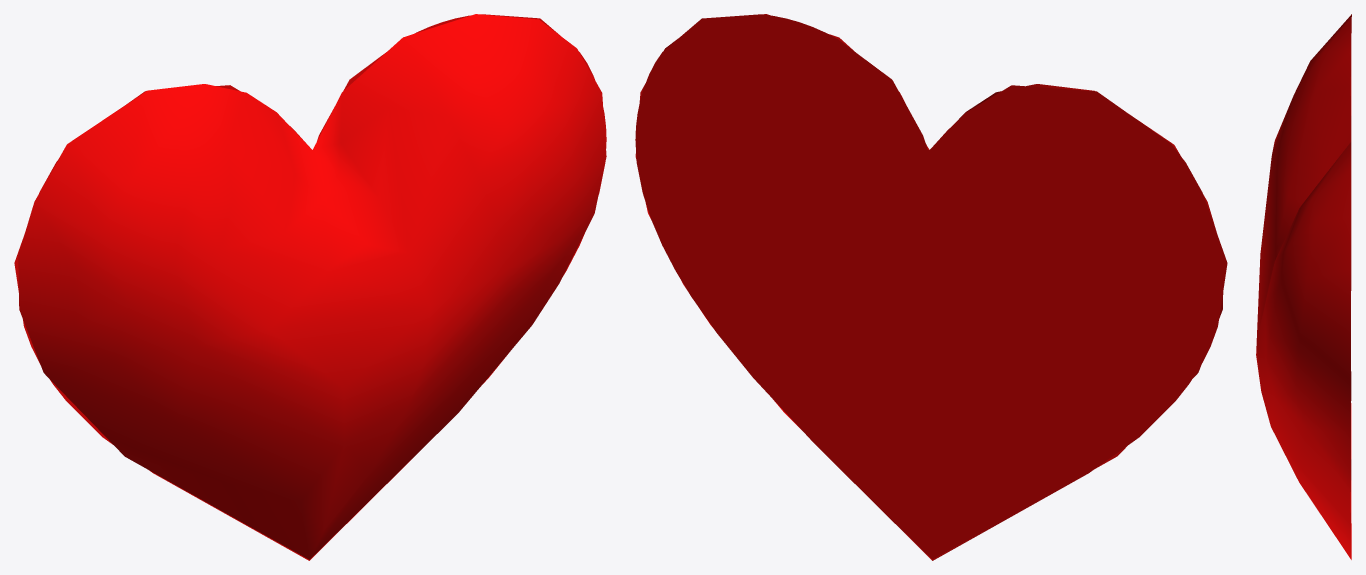
File: Heart.FBX
The picture shows the model from 3 angles, left to right: view 1: azimuth 30°, elevation 25°; view 2: azimuth 150°, elevation 25°; view 3: azimuth 270°, elevation 25°; orthographic projection. The views are drawn at different scales.
Visible parts, largest first — view 1: Heart; view 2: Heart; view 3: Heart.
Boxes of the visible parts, x1,y1,x2,y2 form: Heart: [14, 14, 606, 560]; Heart: [635, 14, 1227, 560]; Heart: [1256, 14, 1351, 559].
Size of the model in its own units: 184 by 151 by 27.93.
